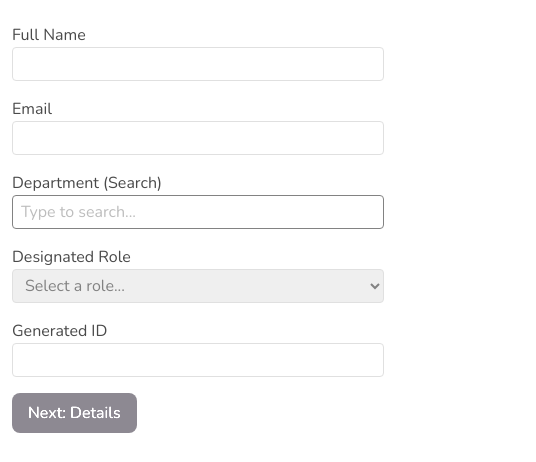
Scenario: Step1BasicInfo Component › shows error message for invalid email
Step 1. Type "invalid-email" into the field labelled "Email" → (198, 138), box [12, 121, 384, 155]
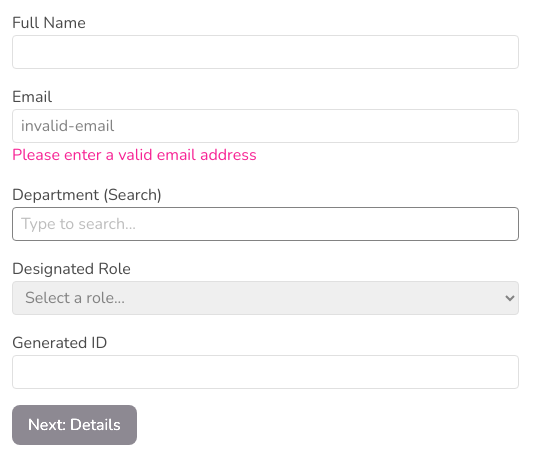
Check: the text "Please enter a valid email address" is shown, box [12, 144, 257, 166]
